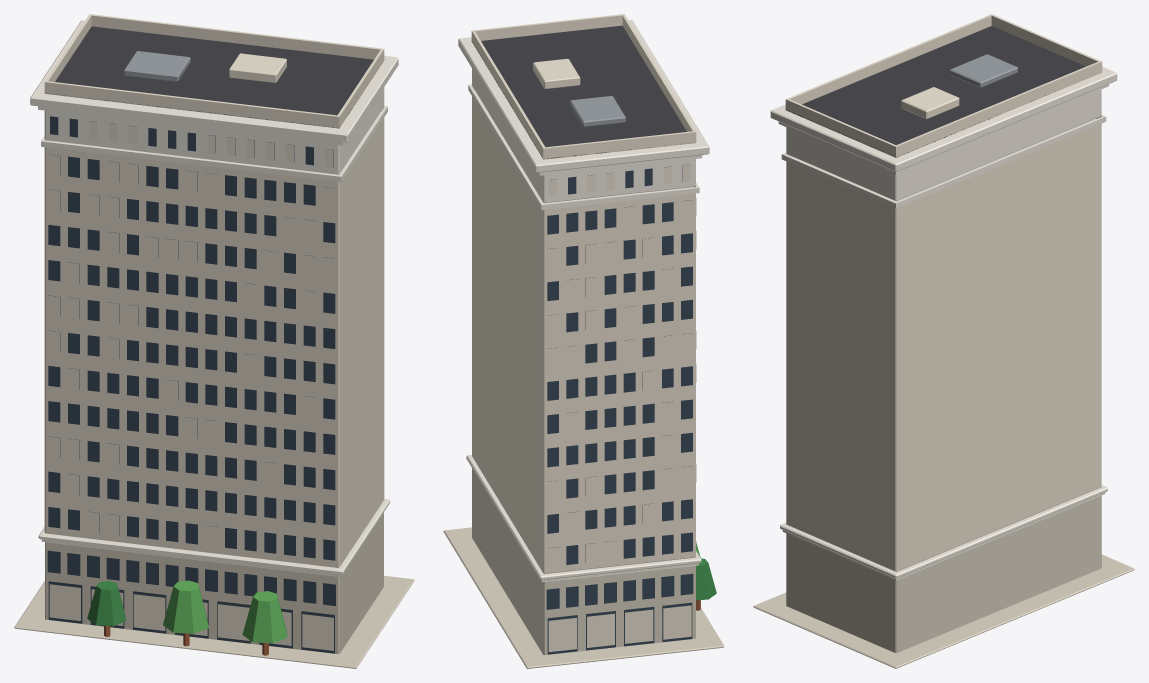
Rendered from bank-of-america-building.glb.
3 renders of one model, left to right at view 1: azimuth 30°, elevation 25°; view 2: azimuth 150°, elevation 25°; view 3: azimuth 270°, elevation 25°, orthographic. The views are drawn at different scales.
Parts seen in each view (by area): view 1: bank-of-america-building_body, bank-of-america-building_night_glow; view 2: bank-of-america-building_body, bank-of-america-building_night_glow; view 3: bank-of-america-building_body.
Boxes of the visible parts, box(x1,y1,x2,y2) form: bank-of-america-building_body: box(14, 14, 414, 668); bank-of-america-building_night_glow: box(48, 121, 335, 650); bank-of-america-building_body: box(443, 14, 724, 668); bank-of-america-building_night_glow: box(547, 164, 696, 651); bank-of-america-building_body: box(753, 14, 1134, 668).
Size of the model in its own units: 40.62 by 60.1 by 40.83.
